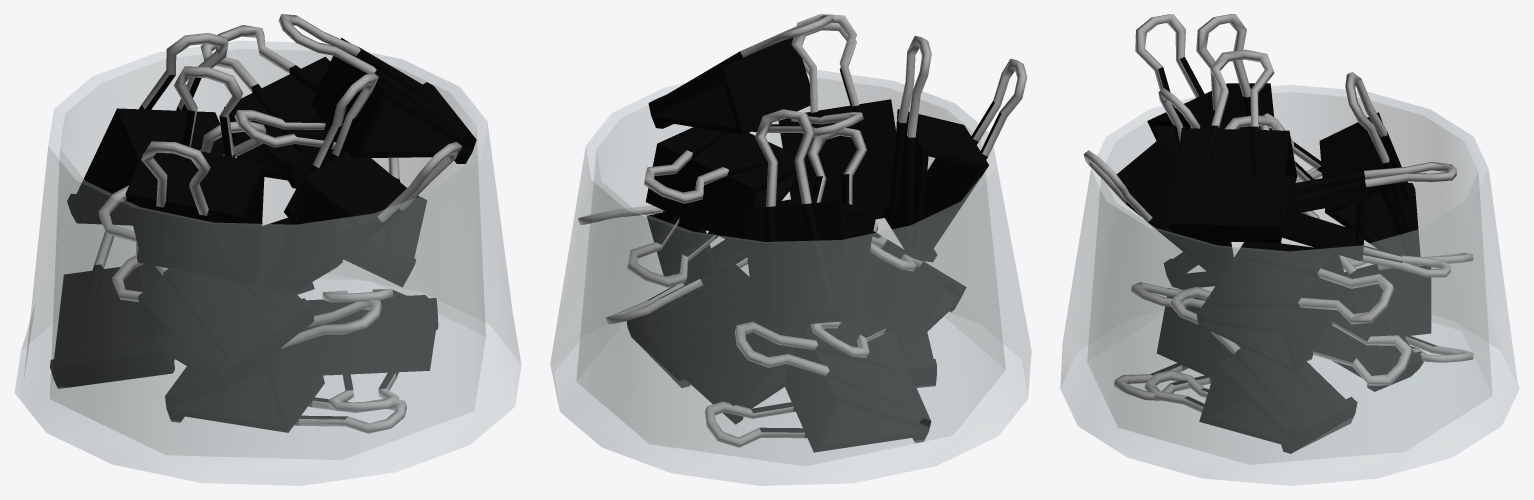
File: Clips_Container.fbx
The picture shows the model from 3 angles, left to right: view 1: azimuth 30°, elevation 25°; view 2: azimuth 150°, elevation 25°; view 3: azimuth 270°, elevation 25°; orthographic projection. The views are drawn at different scales.
Visible parts, largest first — view 1: Clips_Container; view 2: Clips_Container; view 3: Clips_Container.
Boxes of the visible parts, x1=… form: Clips_Container: x1=14, y1=14, x2=521, y2=485; Clips_Container: x1=550, y1=14, x2=1031, y2=485; Clips_Container: x1=1060, y1=14, x2=1519, y2=485.
Bounding box in the file's own units: 22.72 × 18.35 × 22.71.
